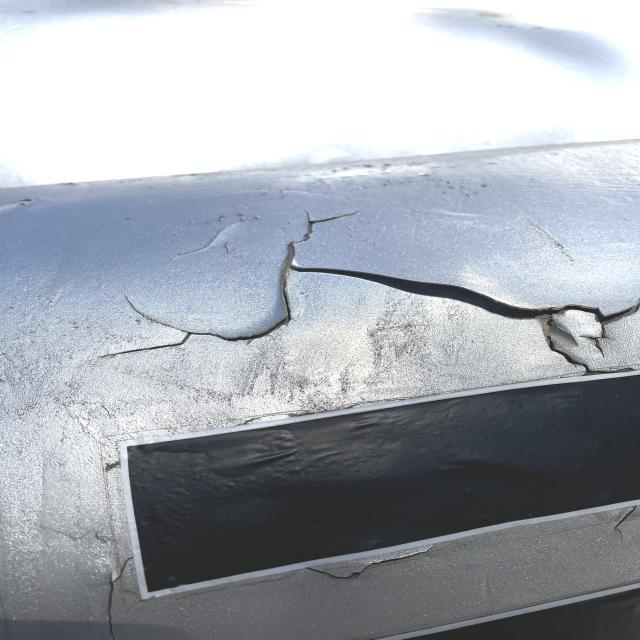crack: (310, 255, 640, 351)
dent: (88, 275, 297, 363), (260, 204, 352, 263)
